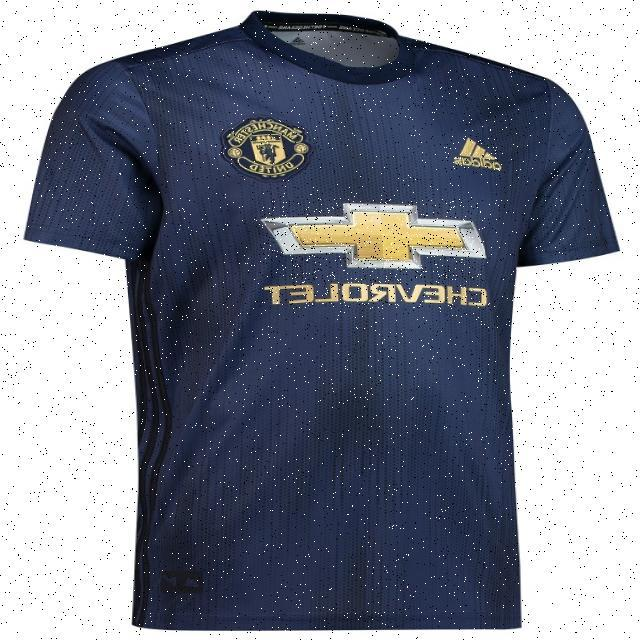Adidas: (442, 136, 506, 172)
Chevrolet: (259, 199, 485, 308)
